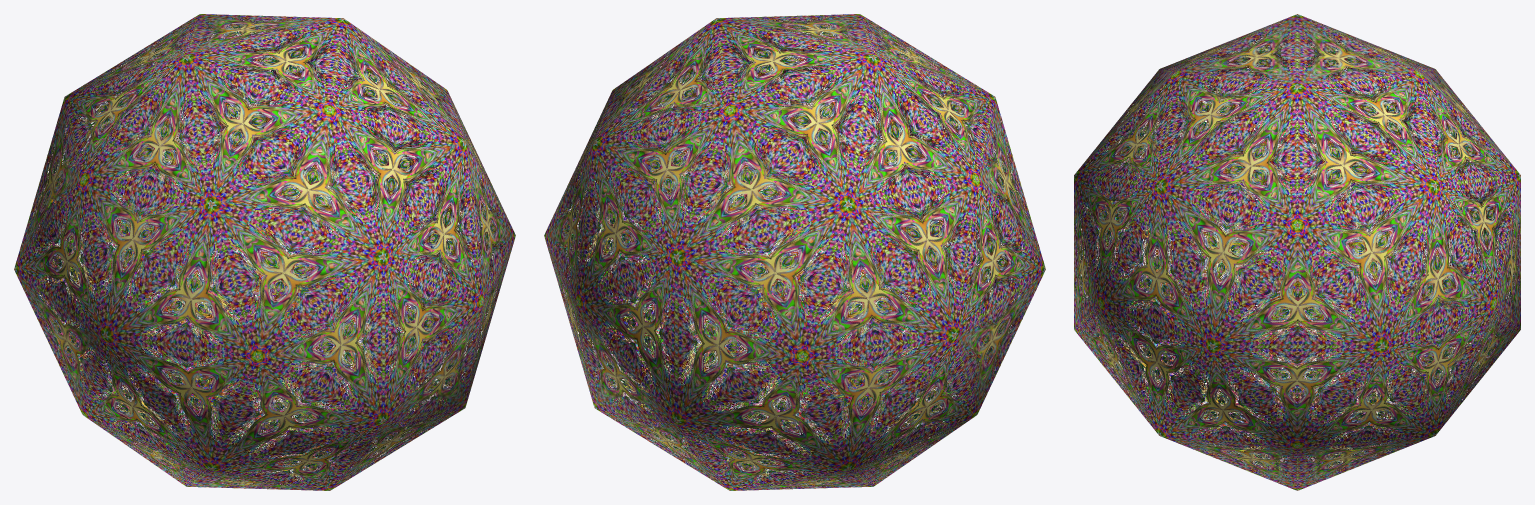
Rendered from 18PentakisDodecahedron.gltf.
The picture shows the model from 3 angles, left to right: view 1: azimuth 30°, elevation 25°; view 2: azimuth 150°, elevation 25°; view 3: azimuth 270°, elevation 25°; orthographic projection. The views are drawn at different scales.
Parts seen in each view (by area): view 1: 20PentakisDodecahedron; view 2: 20PentakisDodecahedron; view 3: 20PentakisDodecahedron.
Part boxes in pixels (x1,y1,x2,y2): 20PentakisDodecahedron: (14, 14, 515, 490); 20PentakisDodecahedron: (544, 14, 1045, 490); 20PentakisDodecahedron: (1074, 14, 1520, 490).
Size of the model in its own units: 4.85 by 4.85 by 4.85.
1 material, 1 textured.
